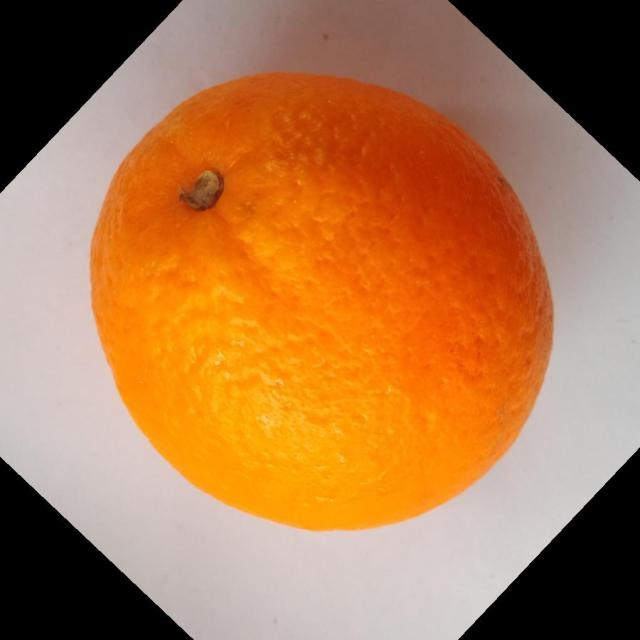agrume: (88, 70, 555, 532)
